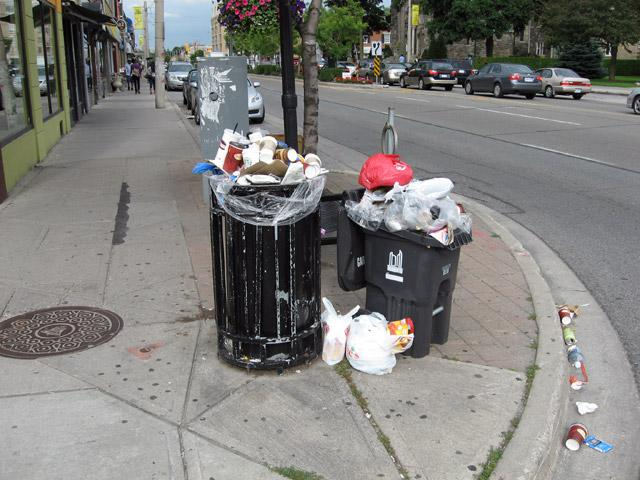Container: (202, 179, 325, 376), (335, 191, 460, 358)
Garbage: (195, 117, 327, 182), (356, 314, 421, 383), (389, 191, 463, 243), (412, 175, 474, 231), (566, 392, 620, 456), (555, 299, 589, 399), (317, 299, 354, 372), (214, 124, 261, 171), (358, 147, 416, 183), (341, 193, 394, 226), (270, 156, 316, 178), (192, 159, 225, 179)
